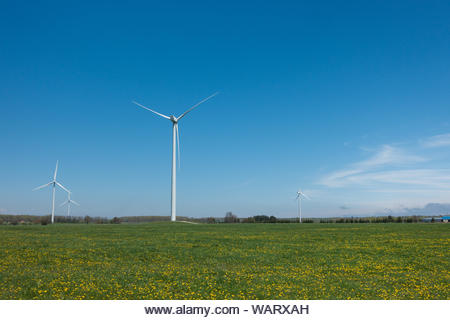working: (128, 89, 217, 180), (31, 157, 69, 199)
